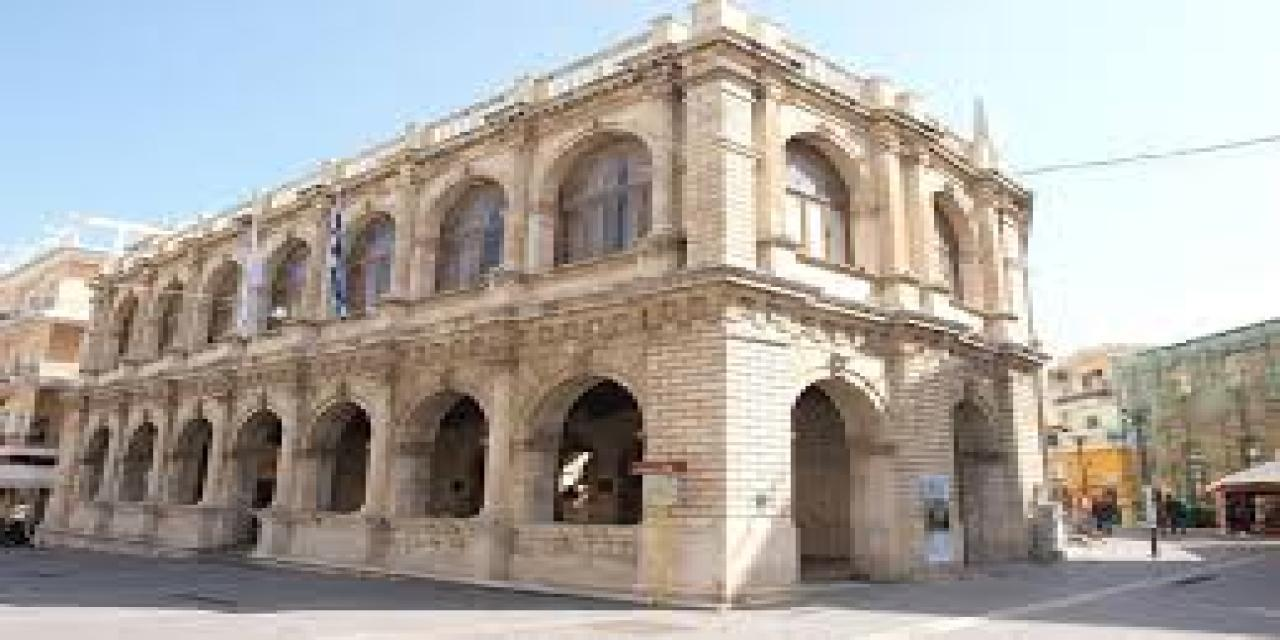Loggia: (31, 1, 1052, 608)
